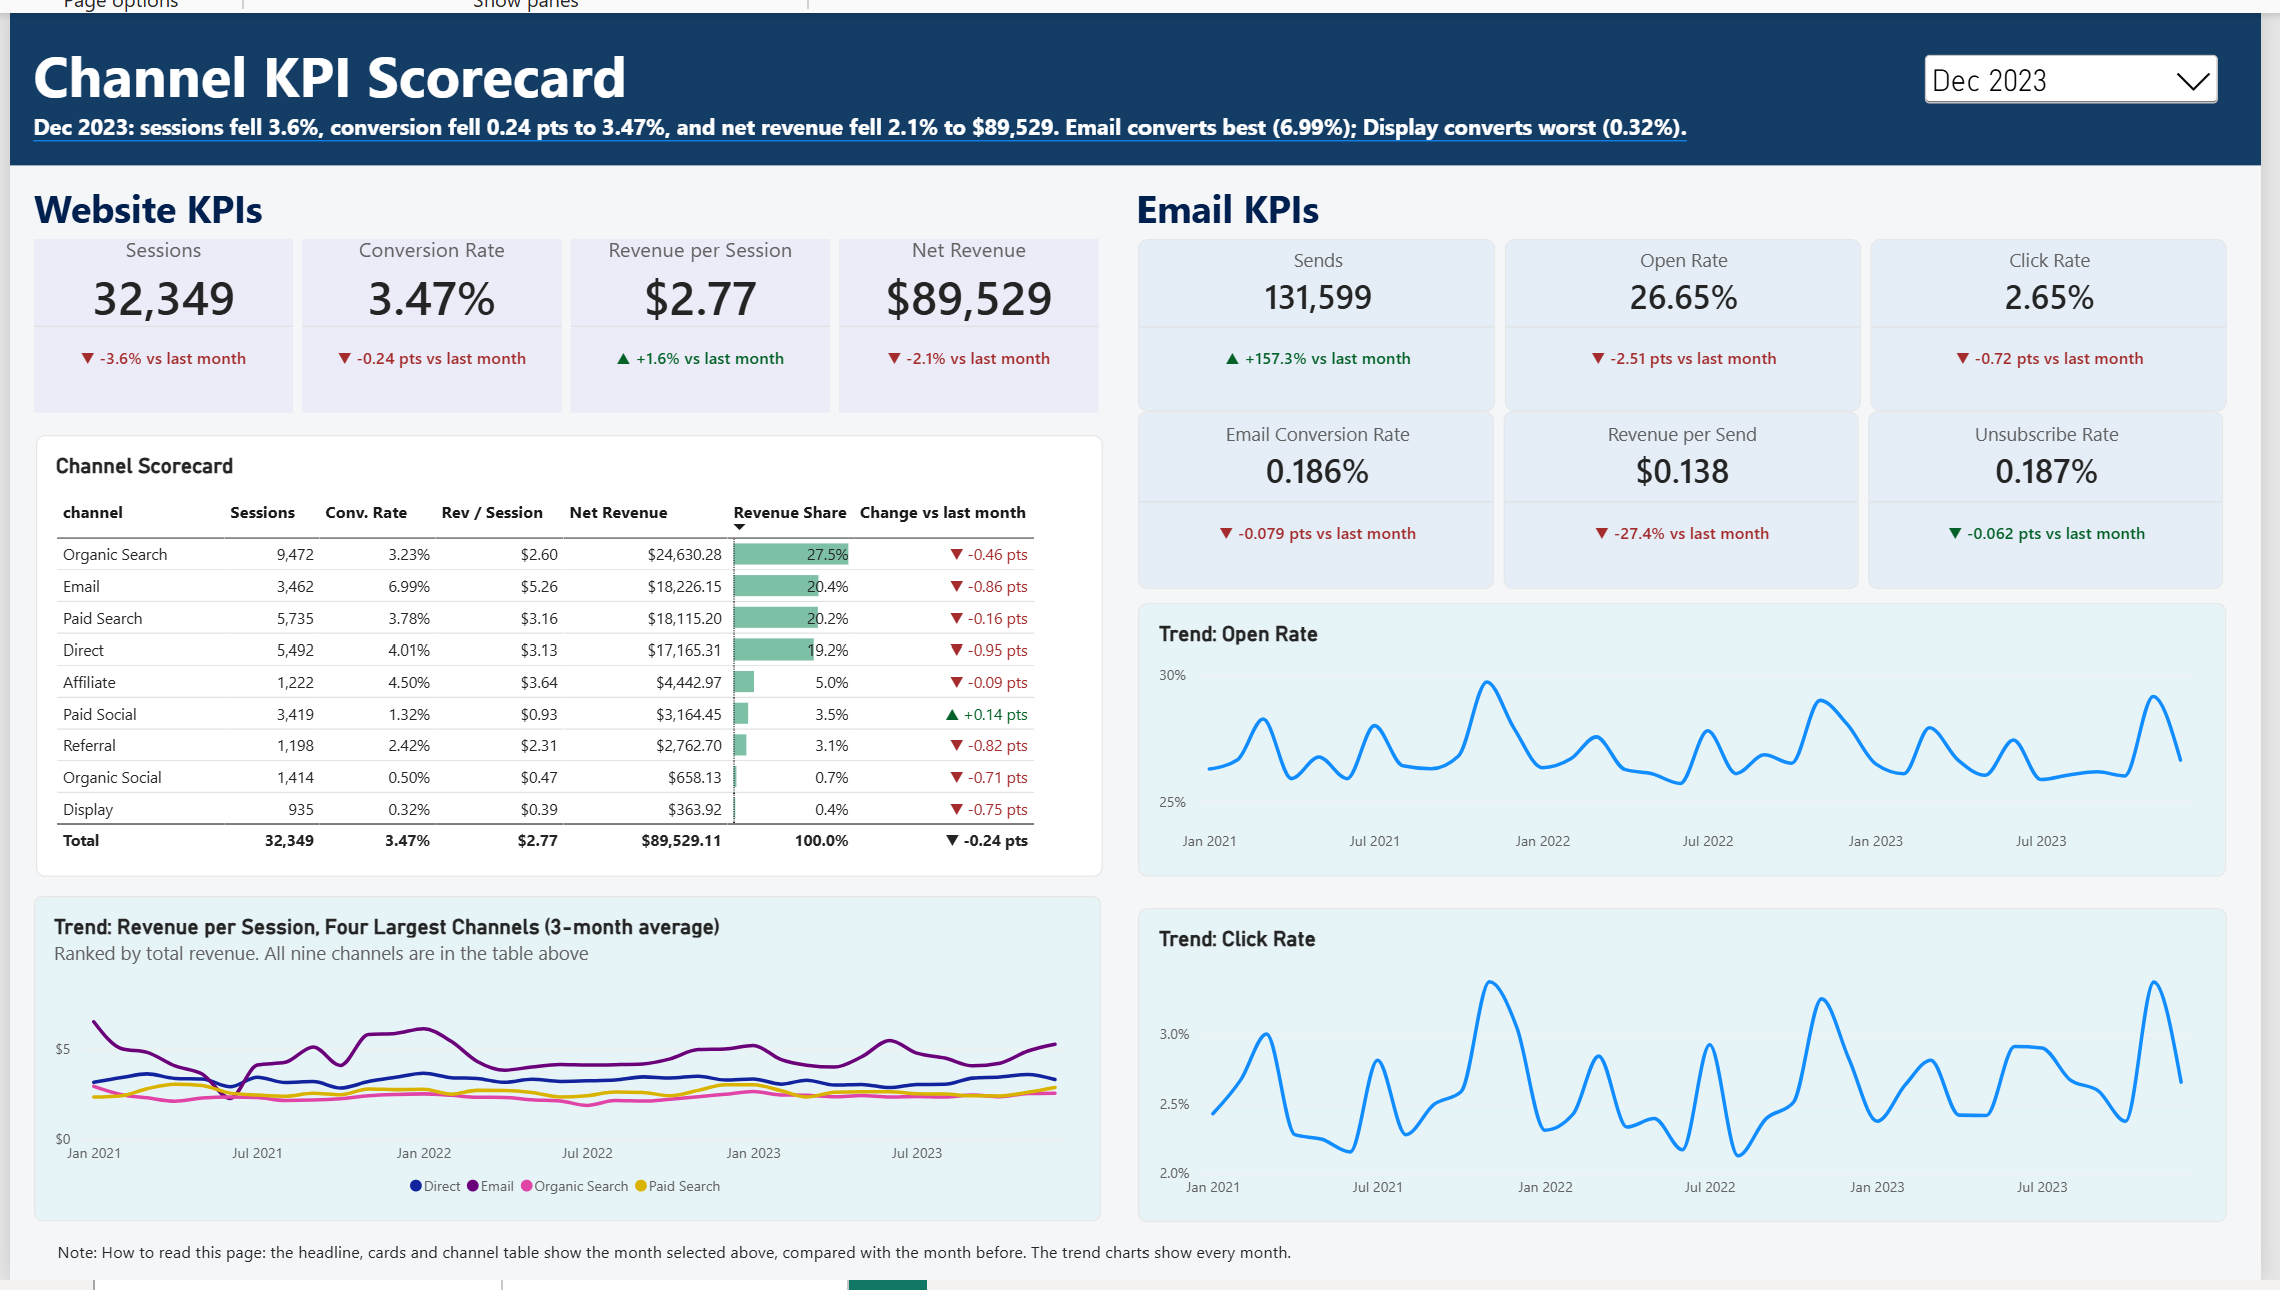

The dashboard page shown, as its layout file describes it:
{"tool":"powerbi","page":{"name":"Page 1: Channel KPI Scorecard","canvas":[1920,1080],"ordinal":0},"visuals":[{"type":"textbox","box":[0,0,1920,130],"z":0},{"type":"slicer","fields":{"Values":["Date.Year Month"]},"box":[1627.5,30,260,55],"z":1000},{"type":"textbox","box":[20,145,210,47.5],"z":2000},{"type":"cardVisual","fields":{"Data":["_Measures.Sessions","_Measures.Conversion Rate","_Measures.Revenue per Session","_Measures.Net Revenue"]},"box":[20,192,910,148],"z":3000},{"type":"textbox","box":[960,145,197.5,47.5],"z":4000},{"type":"cardVisual","fields":{"Data":["_Measures.Sends","_Measures.Open Rate","_Measures.Click Rate"]},"box":[962.5,192.5,930,147.5],"z":5000},{"type":"cardVisual","fields":{"Data":["_Measures.Email Conversion Rate","_Measures.Revenue per Send","_Measures.Unsubscribe Rate"]},"box":[962,340,927.5,152.5],"z":6000},{"type":"tableEx","title":"Channel Scorecard","fields":{"Values":["sessions.channel","_Measures.Sessions","_Measures.Conversion Rate","_Measures.Revenue per Session","_Measures.Net Revenue","_Measures.Revenue Share","_Measures.Conv. Rate Change"]},"box":[22,360,910,376],"z":7000},{"type":"lineChart","title":"Trend: Revenue per Session, Four Largest Channels (3-month average)","fields":{"Category":["Date.Month Start"],"Series":["sessions.channel"],"Y":["_Measures.Revenue per Session 3M"]},"box":[20,752.5,910,277.5],"z":8000},{"type":"lineChart","title":"Trend: Open Rate","fields":{"Category":["Date.Month Start"],"Y":["_Measures.Open Rate"]},"box":[962,504,927.5,232.5],"z":9000},{"type":"lineChart","title":"Trend: Click Rate","fields":{"Category":["Date.Month Start"],"Y":["_Measures.Click Rate"]},"box":[962.5,762.5,928,268],"z":10000},{"type":"textbox","box":[20,1045.8,1880,23.3],"z":11000}]}

Visuals, with their boxes on the page's 1920x1080 design canvas (x1, y1, x2, y2). These are canvas units, not pixel positions in the 2280x1290 screenshot, which may show the page scaled, cropped or inside an application window:
textbox: bbox(0, 0, 1920, 130)
slicer - Date.Year Month: bbox(1628, 30, 1888, 85)
textbox: bbox(20, 145, 230, 192)
cardVisual - _Measures.Sessions x _Measures.Conversion Rate: bbox(20, 192, 930, 340)
textbox: bbox(960, 145, 1158, 192)
cardVisual - _Measures.Sends x _Measures.Open Rate: bbox(962, 192, 1892, 340)
cardVisual - _Measures.Email Conversion Rate x _Measures.Revenue per Send: bbox(962, 340, 1890, 492)
"Channel Scorecard" tableEx: bbox(22, 360, 932, 736)
"Trend: Revenue per Session, Four Largest Channels (3-month average)" lineChart: bbox(20, 752, 930, 1030)
"Trend: Open Rate" lineChart: bbox(962, 504, 1890, 736)
"Trend: Click Rate" lineChart: bbox(962, 762, 1890, 1030)
textbox: bbox(20, 1046, 1900, 1069)
